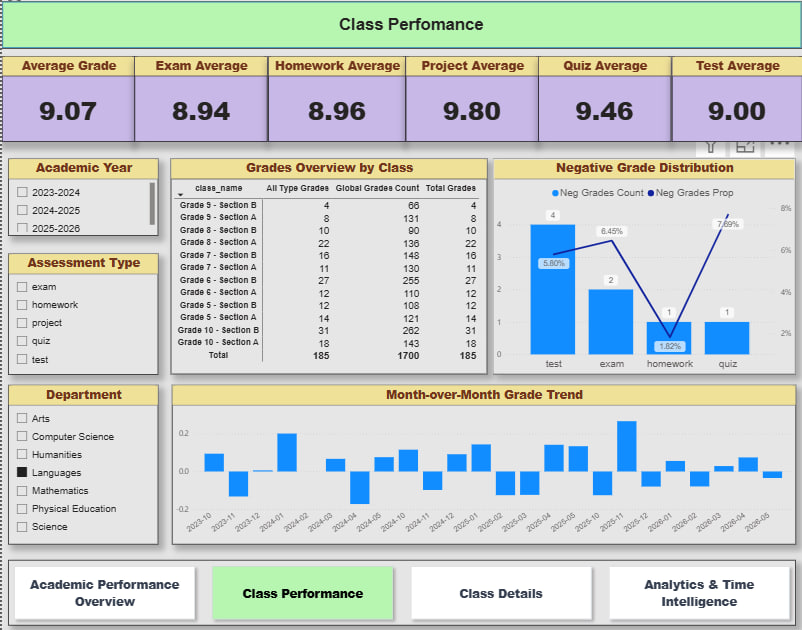

The page's visual inventory and layout, read from the dashboard file:
{"tool":"powerbi","page":{"name":"Class Performance","canvas":[1280,1050],"ordinal":1},"visuals":[{"type":"pivotTable","title":"Grades Overview by Class","fields":{"Values":["_Measures.All Type Grades","_Measures.Global Grades Count","_Measures.Total Grades"],"Rows":["classes.class_name"]},"box":[270,261.7,506.7,345],"z":0},{"type":"lineClusteredColumnComboChart","title":"Negative Grade Distribution","fields":{"Y":["_Measures.Neg Grades Count"],"Category":["grades.grade_type"],"Y2":["_Measures.Neg Grades Prop"]},"box":[786.7,261.7,483.3,345],"z":1000},{"type":"clusteredColumnChart","title":"Month-over-Month Grade Trend","fields":{"Y":["_Measures.MoM_AG%"],"Category":["Calendar.Year-Month"]},"box":[271.7,623.3,998.3,255],"z":2000},{"type":"slicer","title":"Assessment Type","fields":{"Values":["grades.grade_type"]},"box":[10,413.3,240,193.3],"z":3000},{"type":"slicer","title":"Academic Year","fields":{"Values":["periods.academic_year"]},"box":[10,261.7,240,123.3],"z":4000},{"type":"slicer","title":"Department ","fields":{"Values":["subjects.department_hint"]},"box":[10,623.3,240,255],"z":5000},{"type":"actionButton","box":[0,0,100,40],"z":6000},{"type":"pageNavigator","box":[10,903.3,1260,105],"z":7000},{"type":"shape","title":"Analytics & Time Intelligence","box":[0,10,1280,76],"z":8000},{"type":"textbox","box":[423.3,10,421.7,76.7],"z":9000},{"type":"cardVisual","title":"Average Grade","fields":{"Data":["_Measures.Average Grade Measure"]},"box":[0,97.1,212.9,137.1],"z":10000},{"type":"cardVisual","title":"Exam Average ","fields":{"Data":["_Measures.Exam Average Grade"]},"box":[212.9,97.1,213,137.1],"z":11000},{"type":"cardVisual","title":"Homework Average ","fields":{"Data":["_Measures.Homework Average Grade"]},"box":[425.7,97.1,220,137.1],"z":12000},{"type":"cardVisual","title":"Project Average ","fields":{"Data":["_Measures.Project Average Grade"]},"box":[645.7,97.1,212.9,137.1],"z":13000},{"type":"cardVisual","title":"Quiz Average ","fields":{"Data":["_Measures.Quiz Average Grade"]},"box":[858.6,97.1,212.9,137.1],"z":14000},{"type":"cardVisual","title":"Test Average ","fields":{"Data":["_Measures.Test Average Grade"]},"box":[1071.4,97.1,208.6,137.1],"z":15000}]}

Visuals, with their boxes on the page's 1280x1050 design canvas (x1, y1, x2, y2). These are canvas units, not pixel positions in the 802x630 screenshot, which may show the page scaled, cropped or inside an application window:
"Grades Overview by Class" pivotTable: [270,262,777,607]
"Negative Grade Distribution" lineClusteredColumnComboChart: [787,262,1270,607]
"Month-over-Month Grade Trend" clusteredColumnChart: [272,623,1270,878]
"Assessment Type" slicer: [10,413,250,607]
"Academic Year" slicer: [10,262,250,385]
"Department " slicer: [10,623,250,878]
actionButton: [0,0,100,40]
pageNavigator: [10,903,1270,1008]
"Analytics & Time Intelligence" shape: [0,10,1280,86]
textbox: [423,10,845,87]
"Average Grade" cardVisual: [0,97,213,234]
"Exam Average " cardVisual: [213,97,426,234]
"Homework Average " cardVisual: [426,97,646,234]
"Project Average " cardVisual: [646,97,859,234]
"Quiz Average " cardVisual: [859,97,1072,234]
"Test Average " cardVisual: [1071,97,1280,234]
